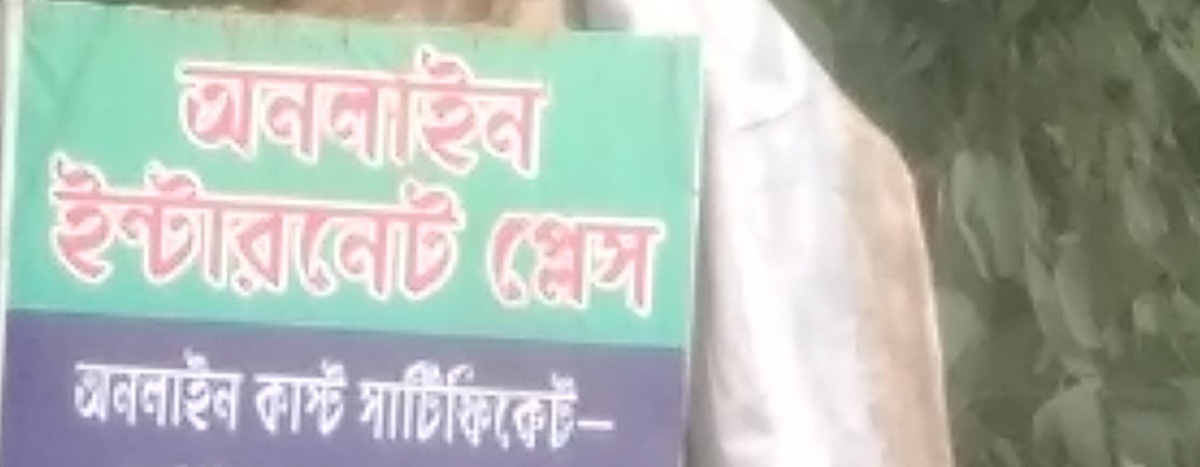text: (49, 147, 64, 314), (65, 147, 80, 314), (81, 147, 96, 314), (97, 147, 112, 314), (113, 147, 128, 314), (129, 147, 144, 314), (145, 147, 160, 314), (161, 147, 176, 314), (177, 147, 192, 314), (193, 147, 208, 314), (209, 147, 224, 314), (225, 147, 240, 314), (241, 147, 256, 314), (257, 147, 272, 314), (273, 147, 288, 314), (289, 147, 304, 314), (305, 147, 320, 314), (321, 147, 336, 314), (337, 147, 352, 314), (353, 147, 368, 314), (369, 147, 384, 314), (385, 147, 400, 314), (401, 147, 416, 314), (417, 147, 432, 314), (433, 147, 448, 314), (449, 147, 464, 314), (177, 25, 192, 187), (193, 25, 208, 187), (209, 25, 224, 187), (225, 25, 240, 187), (241, 25, 256, 187), (257, 25, 272, 187), (273, 25, 288, 187), (289, 25, 304, 187), (305, 25, 320, 187), (321, 25, 336, 187), (337, 25, 352, 187), (353, 25, 368, 187), (369, 25, 384, 187), (385, 25, 400, 187), (401, 25, 416, 187), (417, 25, 432, 187), (433, 25, 448, 187), (449, 25, 464, 187), (465, 25, 480, 187), (481, 25, 496, 187), (497, 25, 512, 187), (513, 25, 528, 187), (529, 25, 544, 187), (545, 25, 557, 187), (481, 209, 496, 322), (497, 209, 512, 322), (513, 209, 528, 322), (529, 209, 544, 322), (545, 209, 560, 322), (561, 209, 576, 322), (577, 209, 592, 322), (593, 209, 608, 322), (609, 209, 624, 322), (625, 209, 640, 322), (641, 209, 656, 322), (369, 349, 384, 461), (385, 349, 400, 461), (401, 349, 416, 461), (417, 349, 432, 461), (433, 349, 448, 461), (449, 349, 464, 461), (465, 349, 480, 461), (481, 349, 496, 461), (497, 349, 512, 461), (513, 349, 528, 461), (529, 349, 544, 461), (545, 349, 560, 461), (561, 349, 576, 461), (577, 349, 592, 461), (593, 349, 608, 461), (609, 349, 624, 461), (81, 338, 96, 438), (97, 338, 112, 438), (113, 338, 128, 438), (129, 338, 144, 438), (145, 338, 160, 438), (161, 338, 176, 438), (177, 338, 192, 438), (193, 338, 208, 438), (209, 338, 224, 438), (225, 338, 240, 438), (257, 353, 272, 446), (273, 353, 288, 446), (289, 353, 304, 446), (305, 353, 320, 446), (321, 353, 336, 446), (337, 353, 352, 446), (657, 209, 668, 322), (625, 349, 635, 461), (69, 338, 80, 438), (359, 349, 368, 461), (465, 147, 471, 314), (241, 338, 248, 438), (173, 25, 176, 187), (251, 353, 256, 446), (353, 353, 357, 446)
